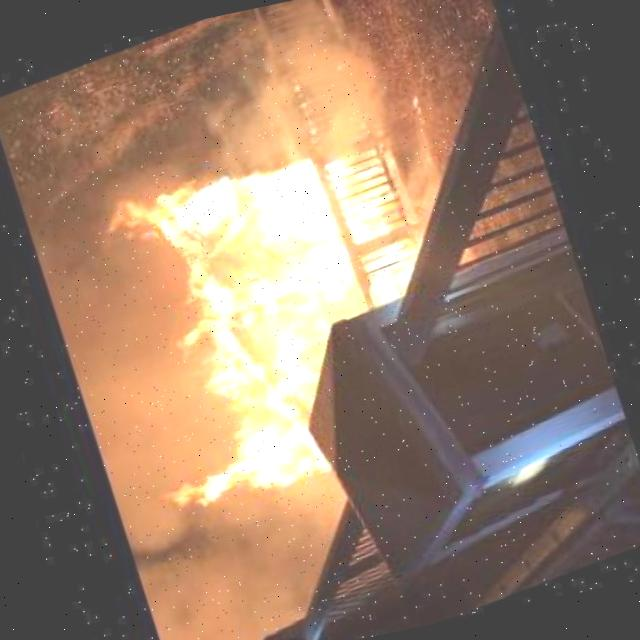fire: (80, 131, 460, 524)
